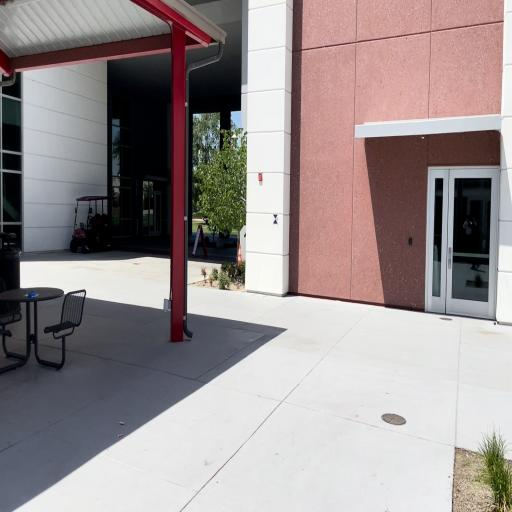target9: (273, 214, 278, 226)
